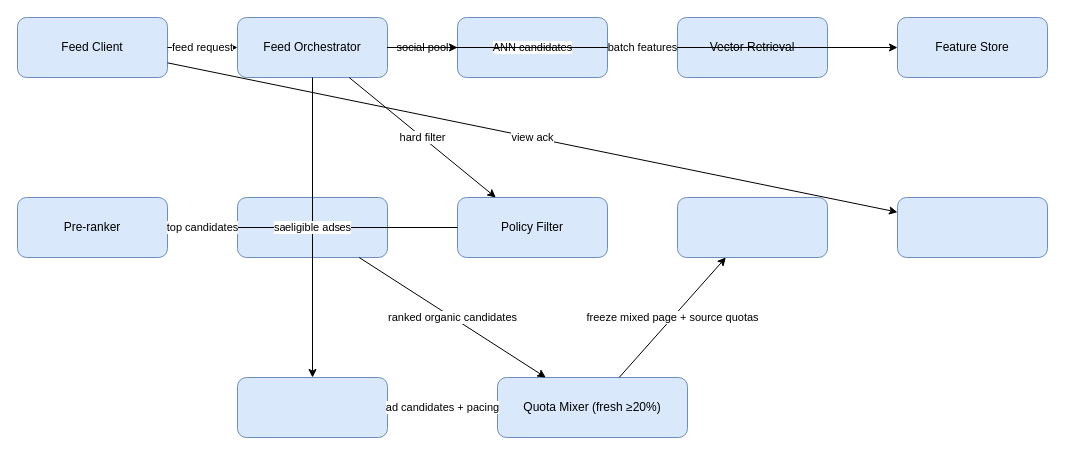
Some shapes in this 1065 by 455 pixel diagram are drawn without their labels. Here are the shapes that lost their labels. From the top down, the centre of each, then its label:
[532,47]: Social Candidates
[752,227]: Session Store
[972,227]: Impression Log
[312,407]: Ad Candidates
